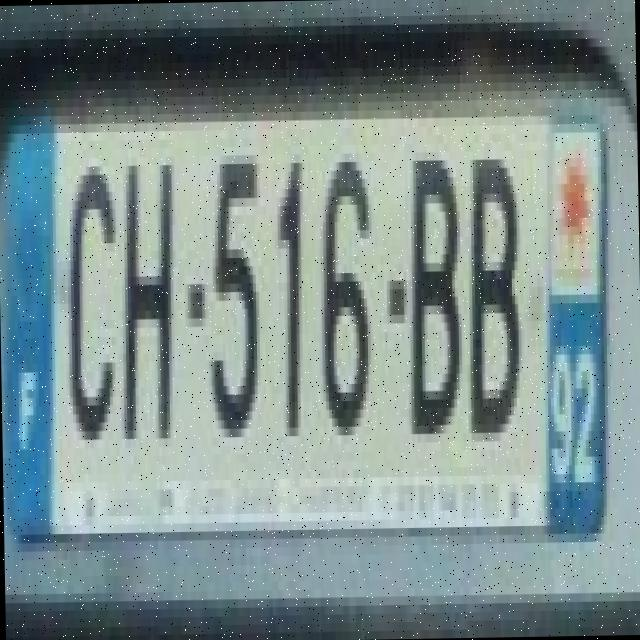EU: (4, 131, 605, 548)
France: (2, 125, 57, 537)
